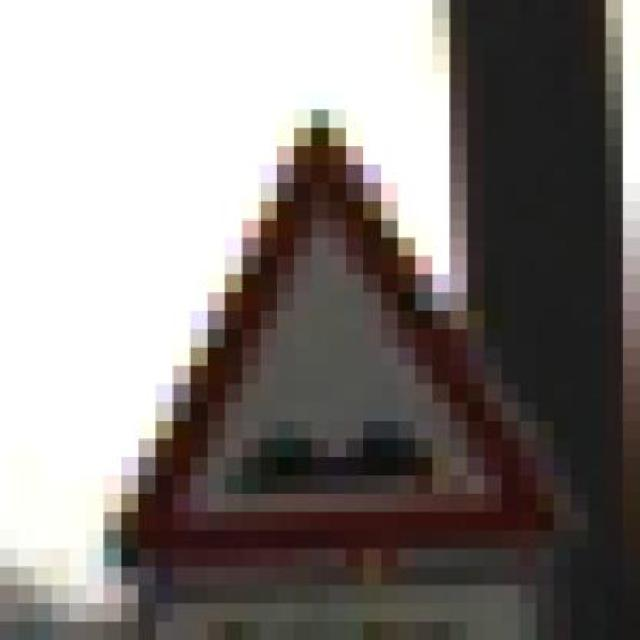Uneven Road: (69, 91, 588, 567)
